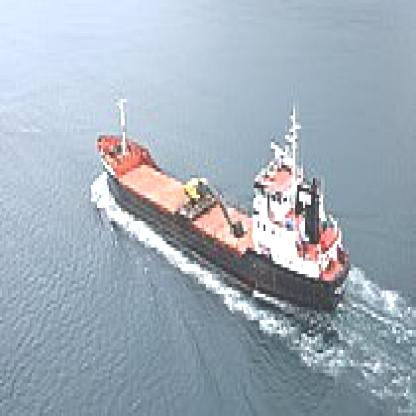Tanker: (67, 79, 354, 314)
